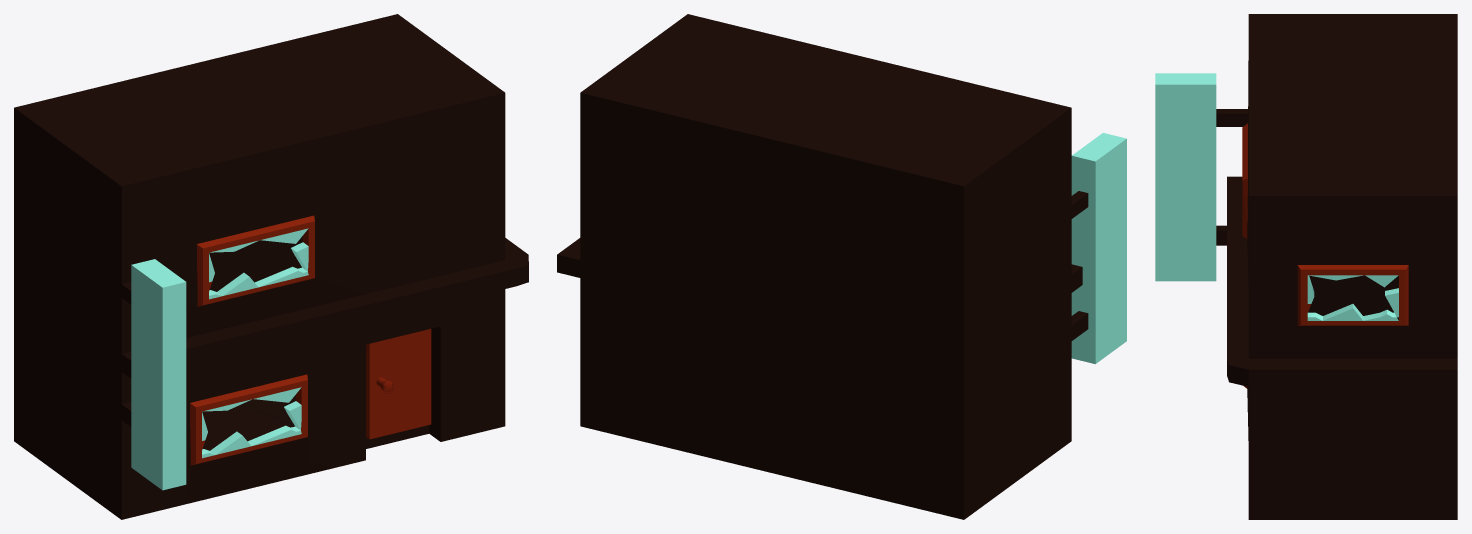
Rendered from myhome@out_open_s.FBX.
The picture shows the model from 3 angles, left to right: view 1: azimuth 30°, elevation 25°; view 2: azimuth 150°, elevation 25°; view 3: azimuth 270°, elevation 25°; orthographic projection. The views are drawn at different scales.
Parts seen in each view (by area): view 1: Box001, Object001; view 2: Box001; view 3: Box001.
Part boxes in pixels (x1=…): Box001: x1=14, y1=14, x2=528, y2=519; Object001: x1=366, y1=329, x2=431, y2=439; Box001: x1=557, y1=14, x2=1126, y2=519; Box001: x1=1155, y1=14, x2=1457, y2=519.
Bounding box in the file's own units: 83.97 × 64.66 × 54.67.
